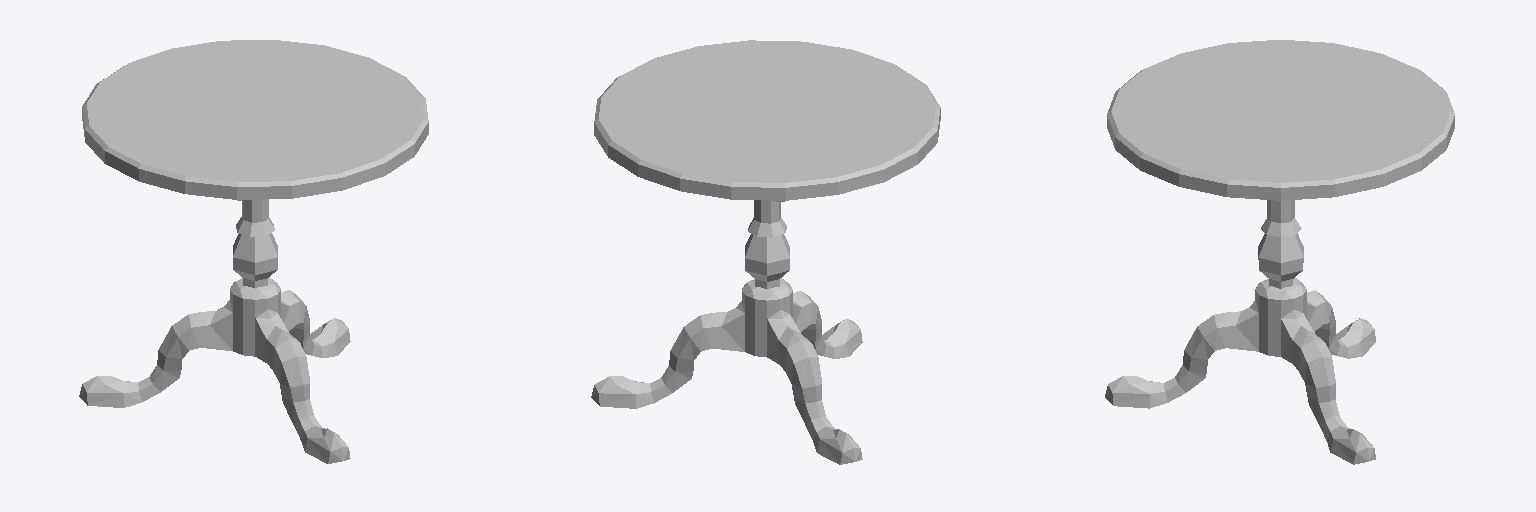
Rendered from table_round.obj.
3 views of the same model, side by side, from view 1: azimuth 30°, elevation 25°; view 2: azimuth 150°, elevation 25°; view 3: azimuth 270°, elevation 25° (orthographic).
Visible parts, largest first — view 1: table_nice_round_mesh; view 2: table_nice_round_mesh; view 3: table_nice_round_mesh.
Boxes of the visible parts, box(x1,y1,x2,y2) form: table_nice_round_mesh: box(79, 40, 428, 463); table_nice_round_mesh: box(591, 40, 940, 464); table_nice_round_mesh: box(1105, 40, 1454, 464).
Size of the model in its own units: 1.2 by 1.1 by 1.21.